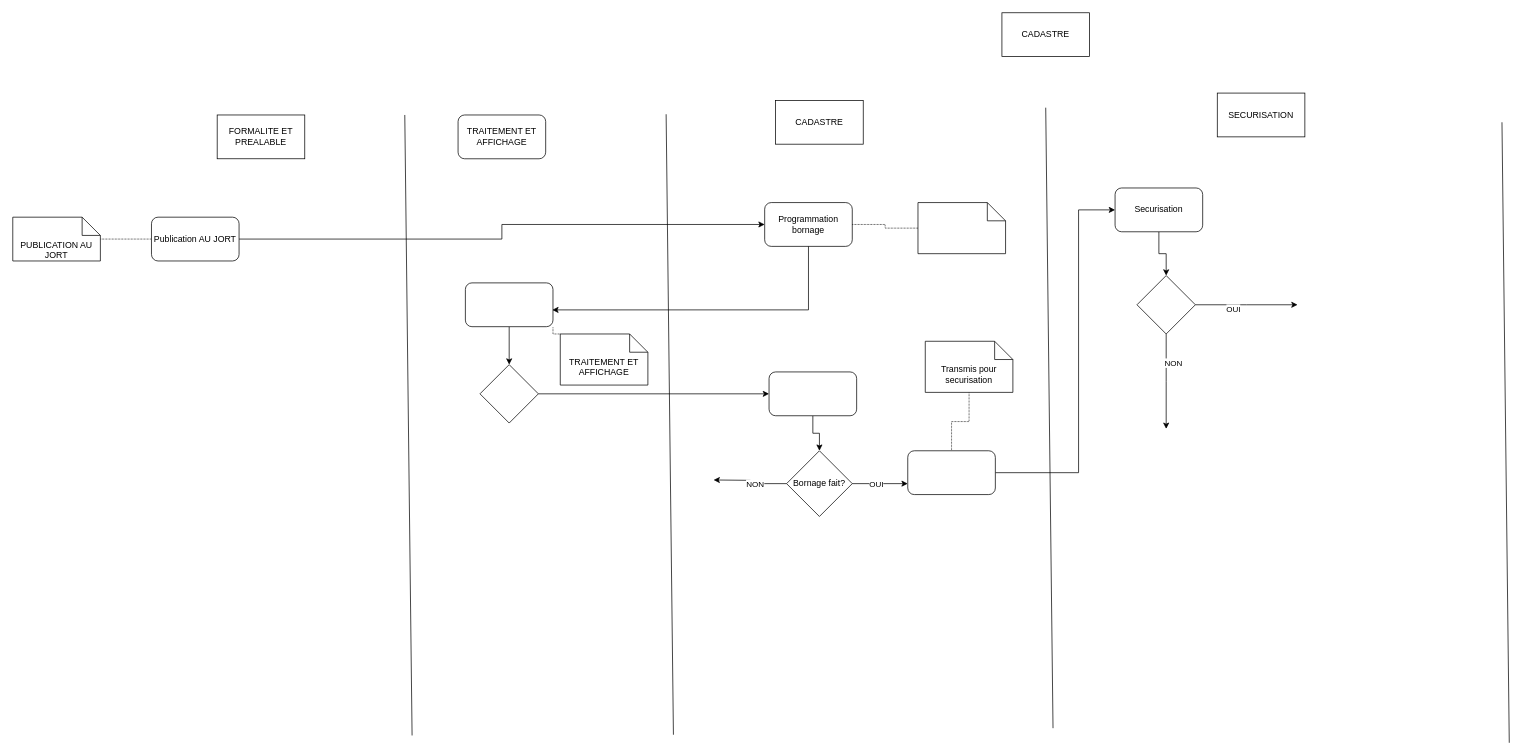
This 1523x756 diagram has some shape labels left out. Here are the shapes that lost their labels. From the top down, the centre of each, then its label:
At [961,228]: "BORNAGE PROGRAMME".
At [509,304]: "Traitement pour affichage".
At [1165,304]: "Securise?".
At [812,393]: "Excecution du bornage".
At [951,472]: "Transmission pour securisation".
